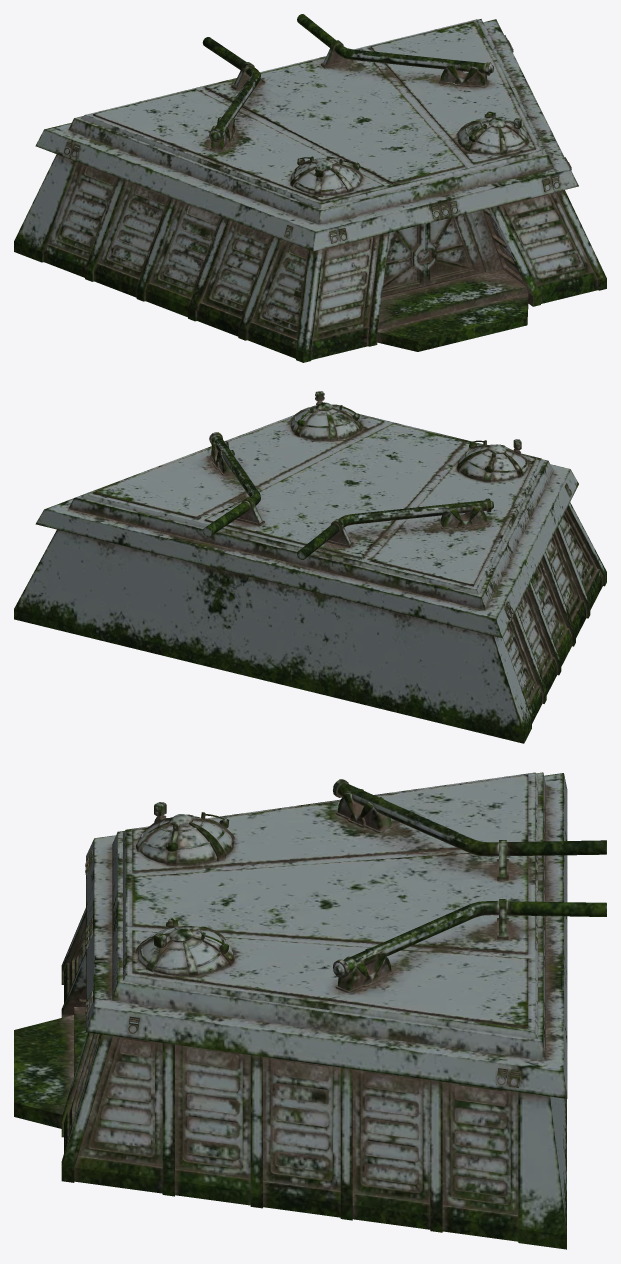
The model's file is bunker.glb.
The picture shows the model from 3 angles, top to bottom: view 1: azimuth 30°, elevation 25°; view 2: azimuth 150°, elevation 25°; view 3: azimuth 270°, elevation 25°; orthographic projection. The views are drawn at different scales.
Parts seen in each view (by area): view 1: defaultMaterial; view 2: defaultMaterial; view 3: defaultMaterial.
Part boxes in pixels (x1=…): defaultMaterial: x1=14, y1=14, x2=606, y2=362; defaultMaterial: x1=14, y1=391, x2=606, y2=743; defaultMaterial: x1=14, y1=772, x2=606, y2=1249.
Bounding box in the file's own units: 12 × 3.5 × 8.9.
Materials: 1 (1 with a texture image).
